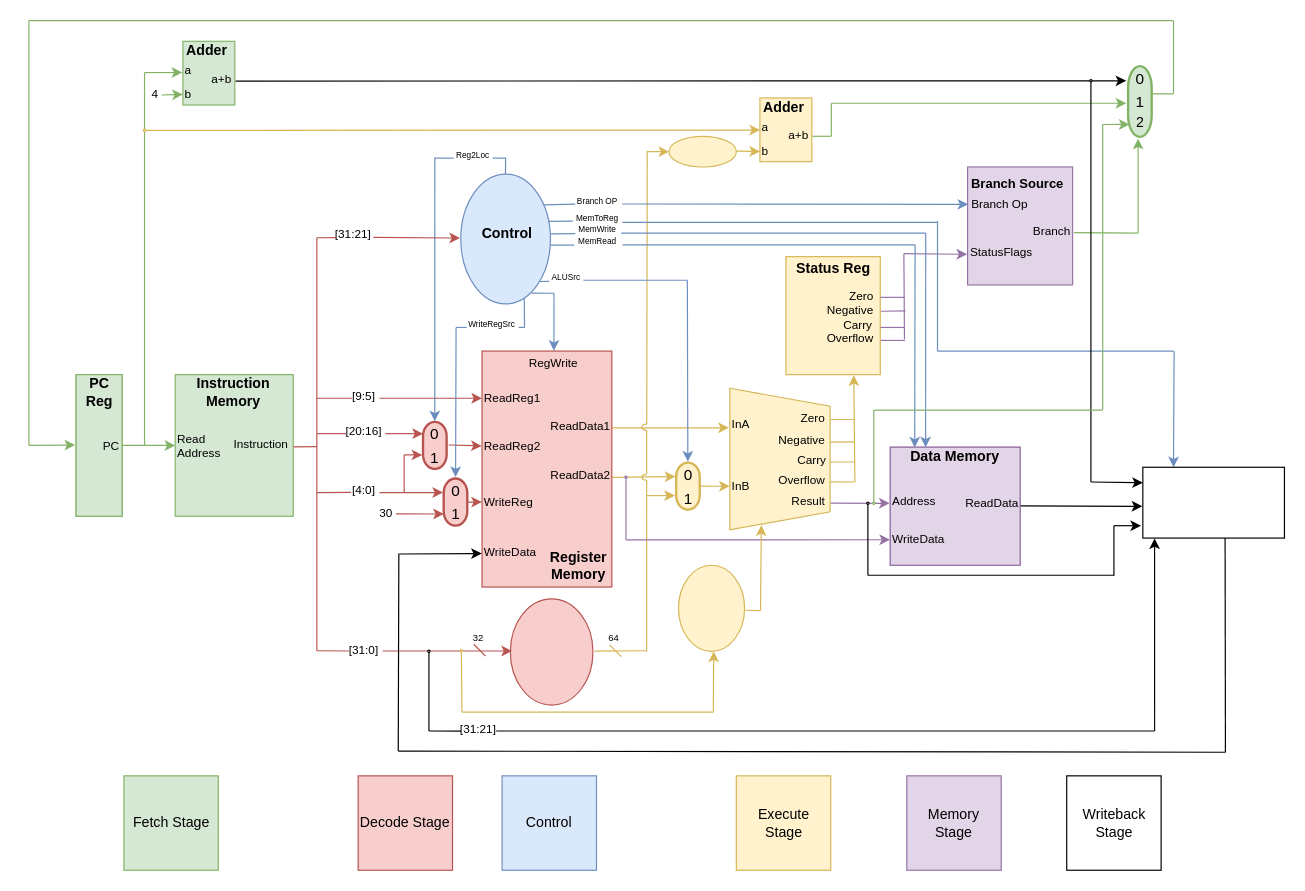
The diagram is 1305 pixels wide and 891 high, and some of its shapes have lost their labels. The centre of each missing label's shape, as x and y in pixels:
a a << 2: (702,151)
ALU Control: (711,607)
Sign Extender: (551,651)
Writeback: (1213,502)
